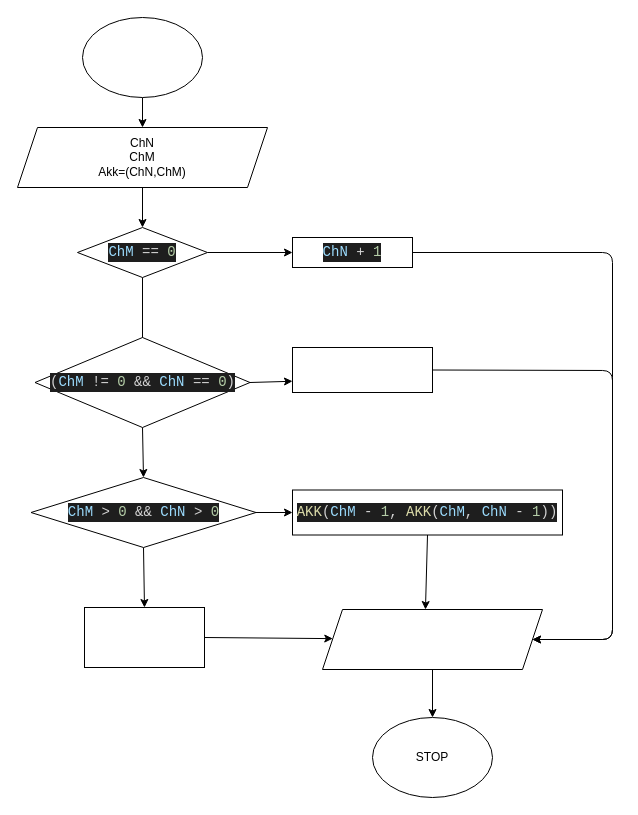
The diagram is 638 pixels wide and 815 high, and some of its shapes have lost their labels. Each missing label, with the box of its shape:
AKK ( ChM , ChN ): (84, 606, 204, 668)
AKK ( ChM - 1 , 1 ): (292, 346, 432, 392)
START: (82, 16, 202, 98)
Вывод AKK ( ChM , ChN): (322, 608, 542, 670)
